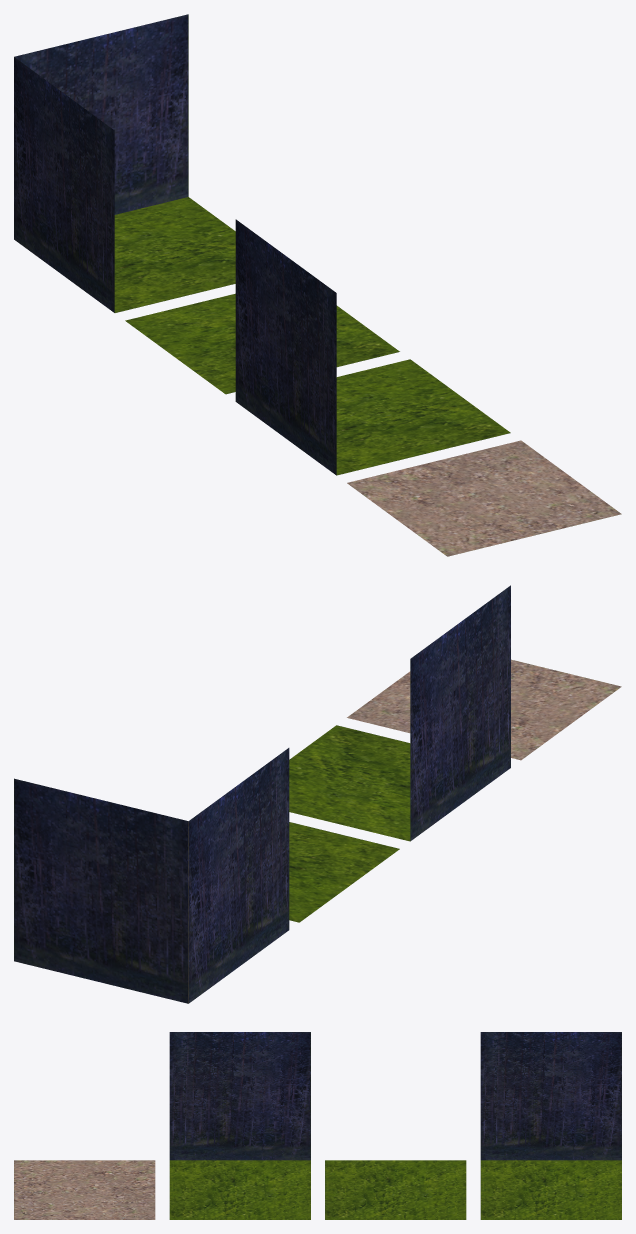
The model's file is outsideTileset.glb.
The picture shows the model from 3 angles, top to bottom: view 1: azimuth 30°, elevation 25°; view 2: azimuth 150°, elevation 25°; view 3: azimuth 270°, elevation 25°; orthographic projection. The views are drawn at different scales.
Parts seen in each view (by area): view 1: forest-col.001, forest-col, dirt-col, grass-col; view 2: forest-col.001, forest-col, dirt-col, grass-col; view 3: forest-col, forest-col.001, grass-col, dirt-col.
Part boxes in pixels (x1,y1,x2,y2): forest-col.001: (14,14,235,312); forest-col: (235,219,510,475); dirt-col: (347,440,621,556); grass-col: (125,293,399,394); forest-col.001: (14,748,289,1003); forest-col: (289,585,510,841); dirt-col: (347,659,621,760); grass-col: (289,822,399,922); forest-col: (169,1032,310,1219); forest-col.001: (480,1032,621,1219); grass-col: (325,1160,466,1219); dirt-col: (14,1160,155,1219).
Bounding box in the file's own units: 10 × 10 × 43.
1 material, 1 textured.
